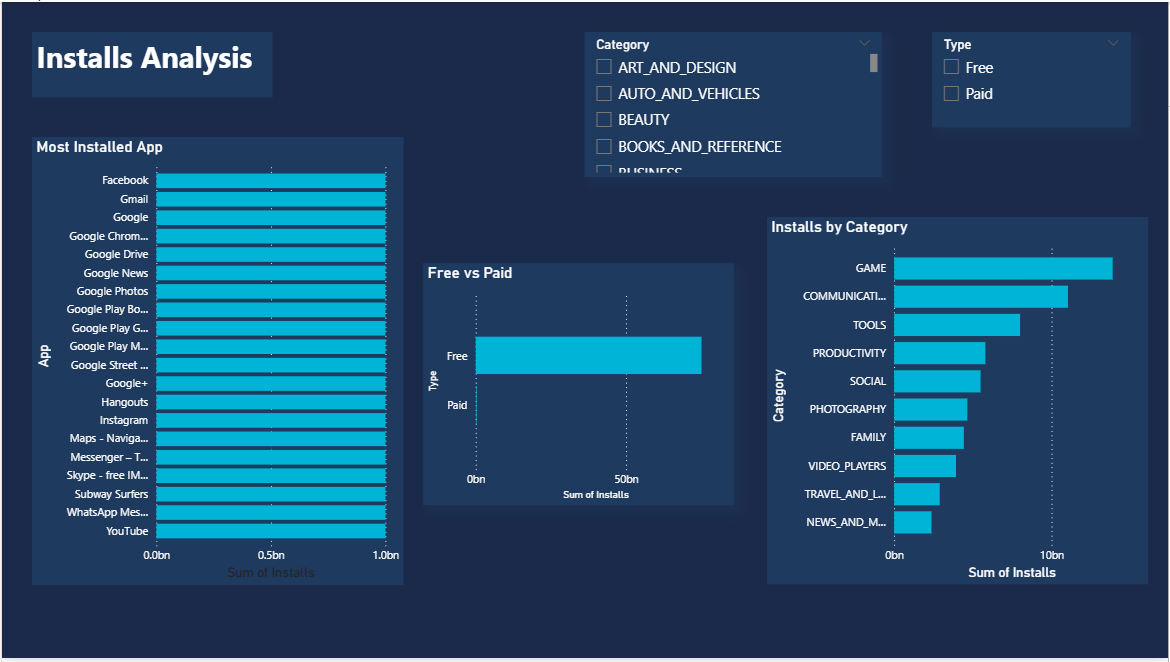

The page's visual inventory and layout, read from the dashboard file:
{"tool":"powerbi","page":{"name":"Page 3","canvas":[1280,720],"ordinal":2},"visuals":[{"type":"clusteredBarChart","title":"Most Installed App","fields":{"Category":["cleaned_playstore.App"],"Y":["Sum(cleaned_playstore.Installs)"]},"box":[32.8,147.5,408.2,491.8],"z":0},{"type":"barChart","title":"Installs by Category","fields":{"Category":["cleaned_playstore.Category"],"Y":["Sum(cleaned_playstore.Installs)"]},"box":[839.3,236.1,418,403.3],"z":1000},{"type":"clusteredBarChart","title":"Free vs Paid","fields":{"Category":["cleaned_playstore.Type"],"Y":["Sum(cleaned_playstore.Installs)"]},"box":[462.3,286.9,341,265.6],"z":2000},{"type":"slicer","fields":{"Values":["cleaned_playstore.Type"]},"box":[1021.3,32.8,218,104.9],"z":3000},{"type":"slicer","fields":{"Values":["cleaned_playstore.Category"]},"box":[639.3,32.8,326.2,159],"z":4000},{"type":"textbox","box":[32.8,32.8,263.9,72.1],"z":5000}]}

Visuals, with their boxes in screenshot pixels (x1, y1, x2, y2), scaled from the page's 1280x720 canvas onto the 1170x662 screenshot:
"Most Installed App" clusteredBarChart: (30,136,403,588)
"Installs by Category" barChart: (767,217,1149,588)
"Free vs Paid" clusteredBarChart: (423,264,734,508)
slicer - cleaned_playstore.Type: (934,30,1133,127)
slicer - cleaned_playstore.Category: (584,30,883,176)
textbox: (30,30,271,96)
